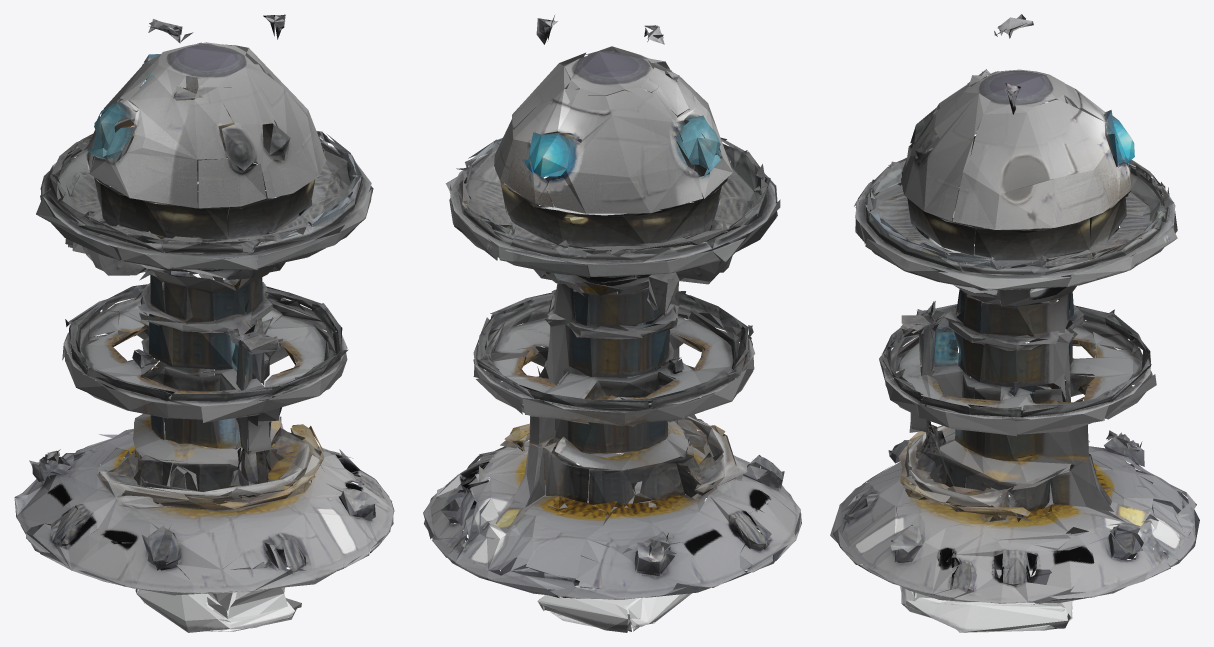
Rendered from research_center_t3.fbx.
3 views of the same model, side by side, from view 1: azimuth 30°, elevation 25°; view 2: azimuth 150°, elevation 25°; view 3: azimuth 270°, elevation 25° (orthographic). The views are drawn at different scales.
Visible parts, largest first — view 1: research_center_t3; view 2: research_center_t3; view 3: research_center_t3.
Part boxes in pixels (x1,y1,x2,y2): research_center_t3: (14, 14, 394, 632); research_center_t3: (423, 15, 801, 632); research_center_t3: (830, 14, 1199, 632).
Size of the model in its own units: 3.24 by 5.56 by 3.26.
1 material, 1 textured.
